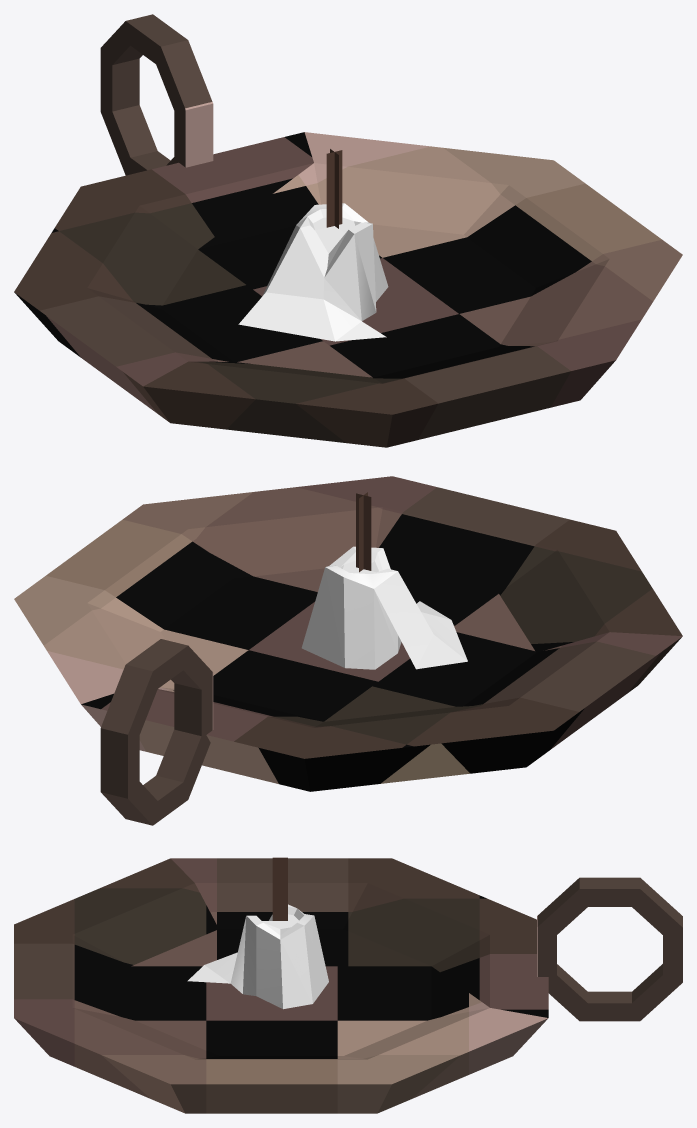
Rendered from spent_light_997x06.gltf.
3 renders of one model, top to bottom at view 1: azimuth 30°, elevation 25°; view 2: azimuth 150°, elevation 25°; view 3: azimuth 270°, elevation 25°, orthographic. The views are drawn at different scales.
Visible parts, largest first — view 1: spent_light_997x06; view 2: spent_light_997x06; view 3: spent_light_997x06.
Part boxes in pixels (left/top/right/bottom): spent_light_997x06: left=14, top=14, right=682, bottom=447; spent_light_997x06: left=14, top=476, right=682, bottom=825; spent_light_997x06: left=14, top=857, right=682, bottom=1113.
Bounding box in the file's own units: 0.5085 × 0.1595 × 0.6362.
2 materials, 2 textured.
